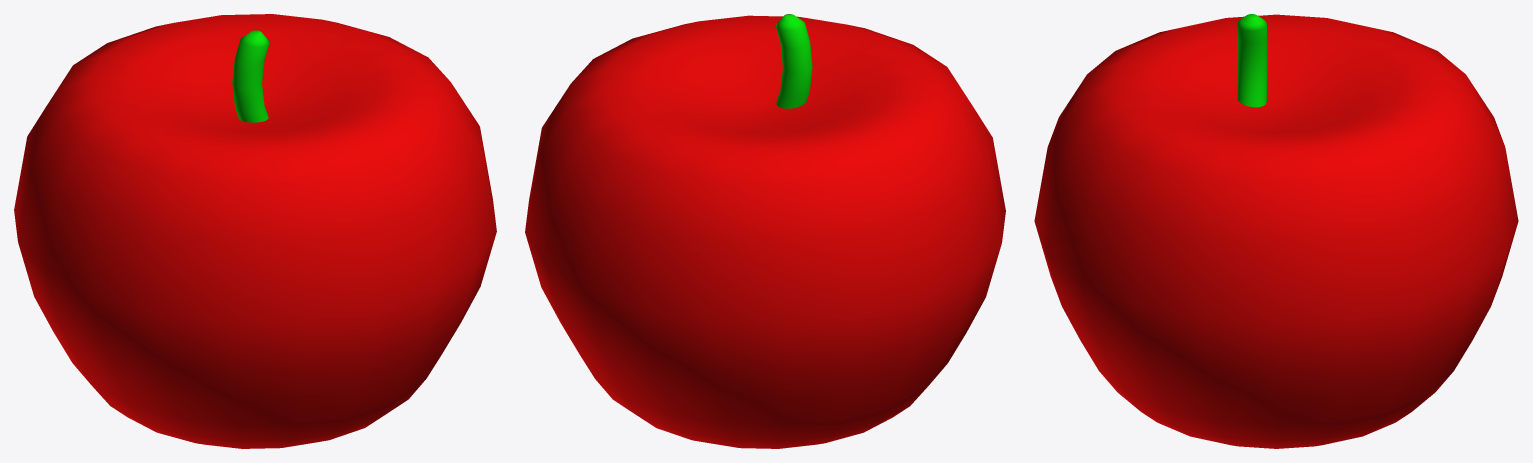
Rendered from Apple.fbx.
The picture shows the model from 3 angles, left to right: view 1: azimuth 30°, elevation 25°; view 2: azimuth 150°, elevation 25°; view 3: azimuth 270°, elevation 25°; orthographic projection.
Parts seen in each view (by area): view 1: Base, Stem; view 2: Base, Stem; view 3: Base, Stem.
Part boxes in pixels (bbox=[...]): Base: bbox=[14, 14, 496, 448]; Stem: bbox=[232, 30, 269, 122]; Base: bbox=[525, 15, 1005, 448]; Stem: bbox=[776, 14, 812, 108]; Base: bbox=[1034, 14, 1518, 448]; Stem: bbox=[1237, 14, 1267, 107].
Size of the model in its own units: 6.03 by 5.32 by 6.03.
